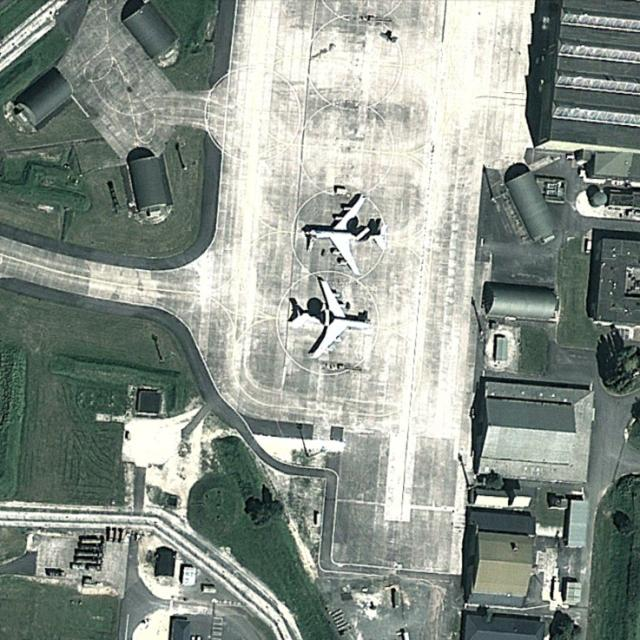fighter jet: (280, 284, 378, 359), (300, 195, 386, 272)
